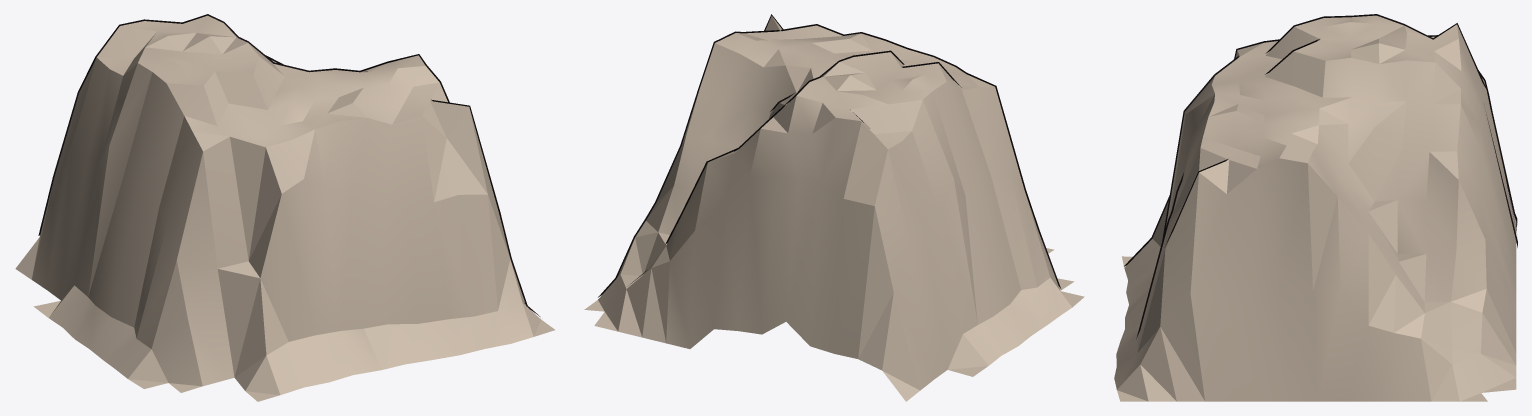
File: SM_Cliff_03.fbx
The picture shows the model from 3 angles, left to right: view 1: azimuth 30°, elevation 25°; view 2: azimuth 150°, elevation 25°; view 3: azimuth 270°, elevation 25°; orthographic projection. The views are drawn at different scales.
Visible parts, largest first — view 1: SM_Cliff_03; view 2: SM_Cliff_03; view 3: SM_Cliff_03.
Part boxes in pixels (x1,y1,x2,y2): SM_Cliff_03: (15,14,554,401); SM_Cliff_03: (584,14,1084,401); SM_Cliff_03: (1114,14,1517,401).
Bounding box in the file's own units: 13.35 × 8.67 × 12.52.
